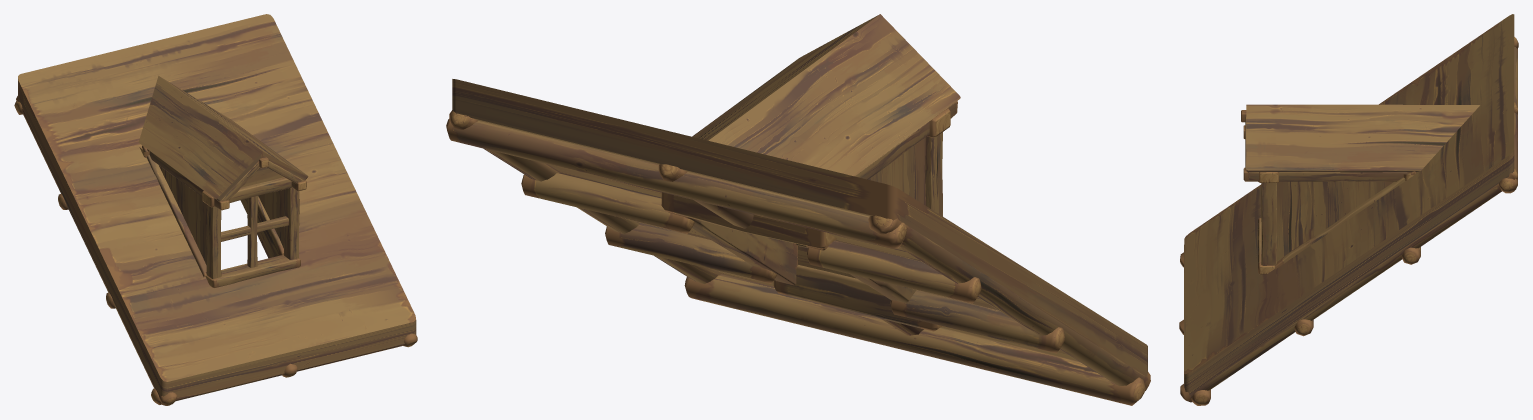
Rendered from SM_MOD_roof_window_01_frame_town.fbx.
The picture shows the model from 3 angles, left to right: view 1: azimuth 30°, elevation 25°; view 2: azimuth 150°, elevation 25°; view 3: azimuth 270°, elevation 25°; orthographic projection. The views are drawn at different scales.
Visible parts, largest first — view 1: SM_MOD_roof_window_01_frame_town_LOD0; view 2: SM_MOD_roof_window_01_frame_town_LOD0; view 3: SM_MOD_roof_window_01_frame_town_LOD0.
Part boxes in pixels (x1=…): SM_MOD_roof_window_01_frame_town_LOD0: x1=14, y1=14, x2=417, y2=405; SM_MOD_roof_window_01_frame_town_LOD0: x1=446, y1=14, x2=1150, y2=405; SM_MOD_roof_window_01_frame_town_LOD0: x1=1179, y1=14, x2=1518, y2=405.
Size of what is drawn, in the model's own units: 406 by 341 by 411.
